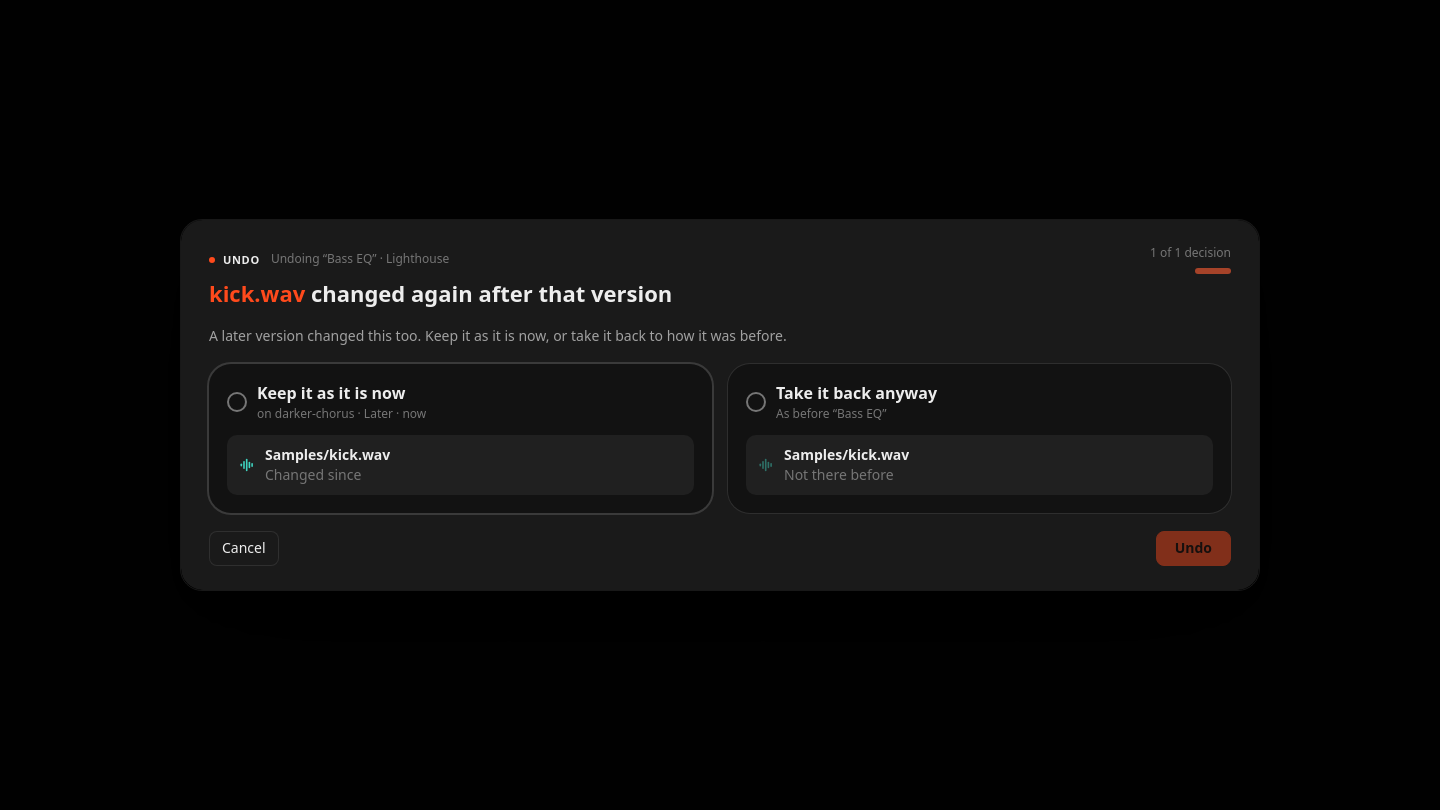
Test: MergeDecisions › undoing: keep it as it is now, or take it back
expect the text "Undoing “Bass EQ”" is shown: met, box [271, 250, 377, 267]
expect the radio button labelled "Keep it as it is now" is shown: met, box [209, 364, 712, 513]
Click the radio button labelled "Take it back anyway": (980, 439) [728, 364, 1231, 513]
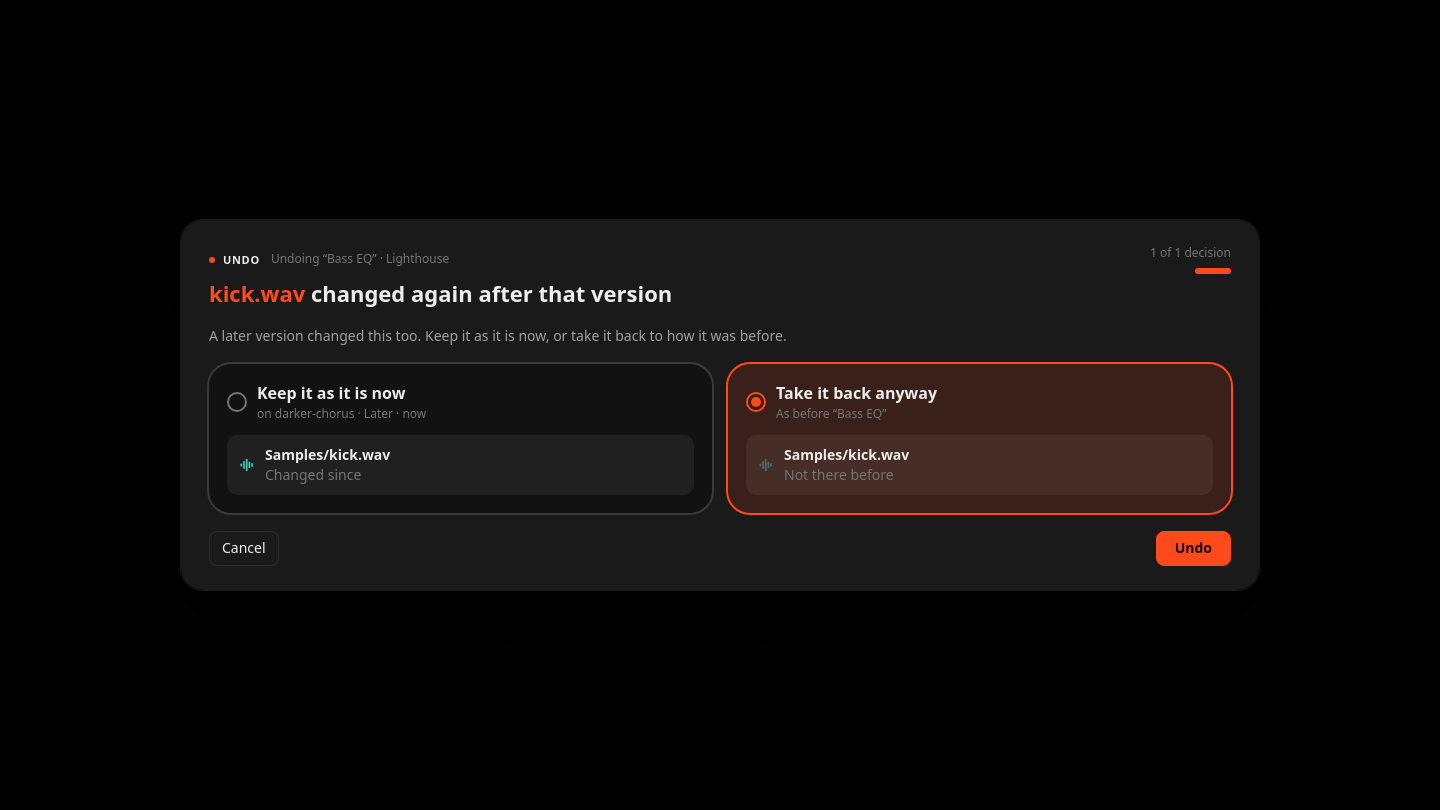
expect the button "Undo" is shown: met, box [1156, 531, 1231, 566]
Click the button "Cancel": (244, 549) [209, 531, 279, 566]
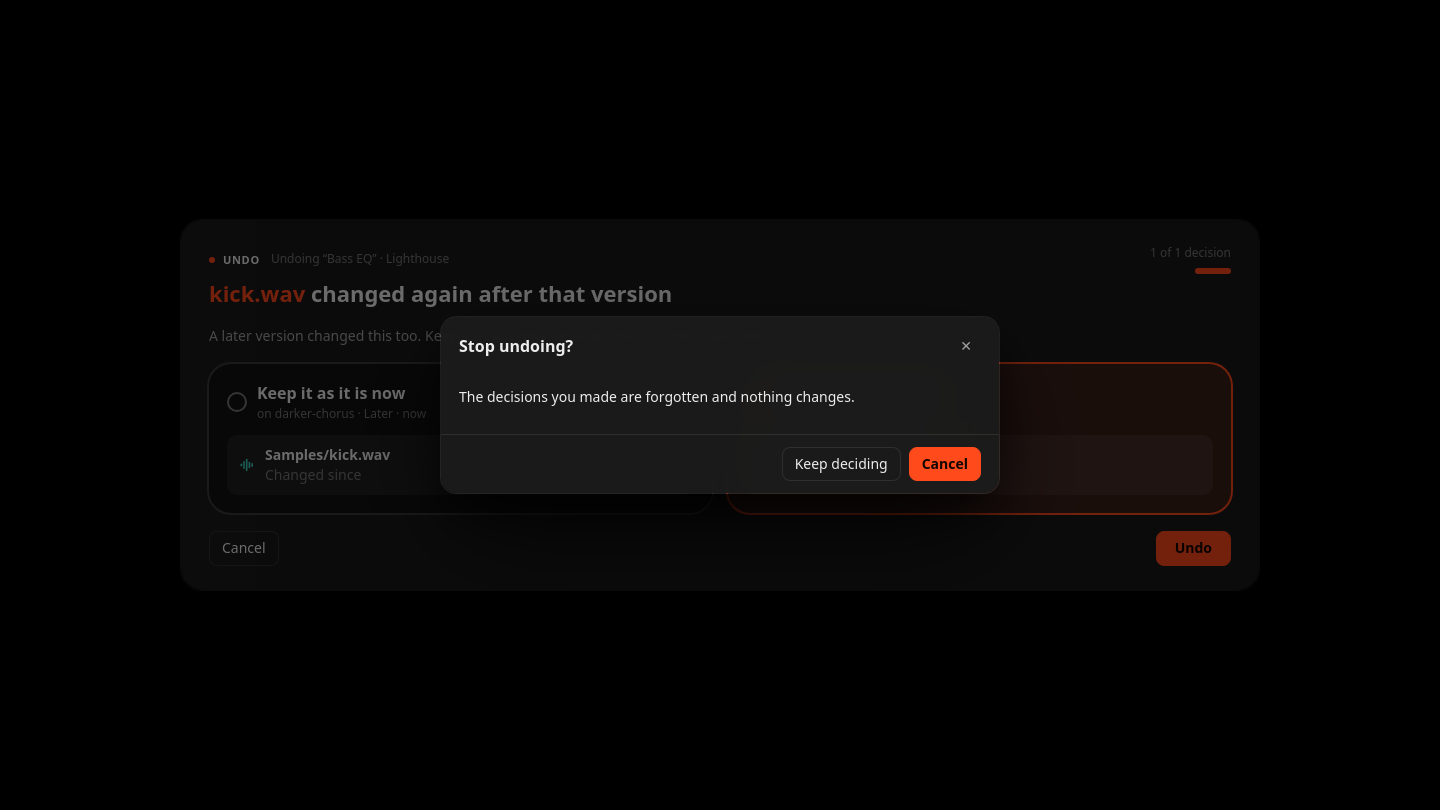
expect the dialog "Stop undoing?" is shown: met, box [440, 316, 1000, 494]
